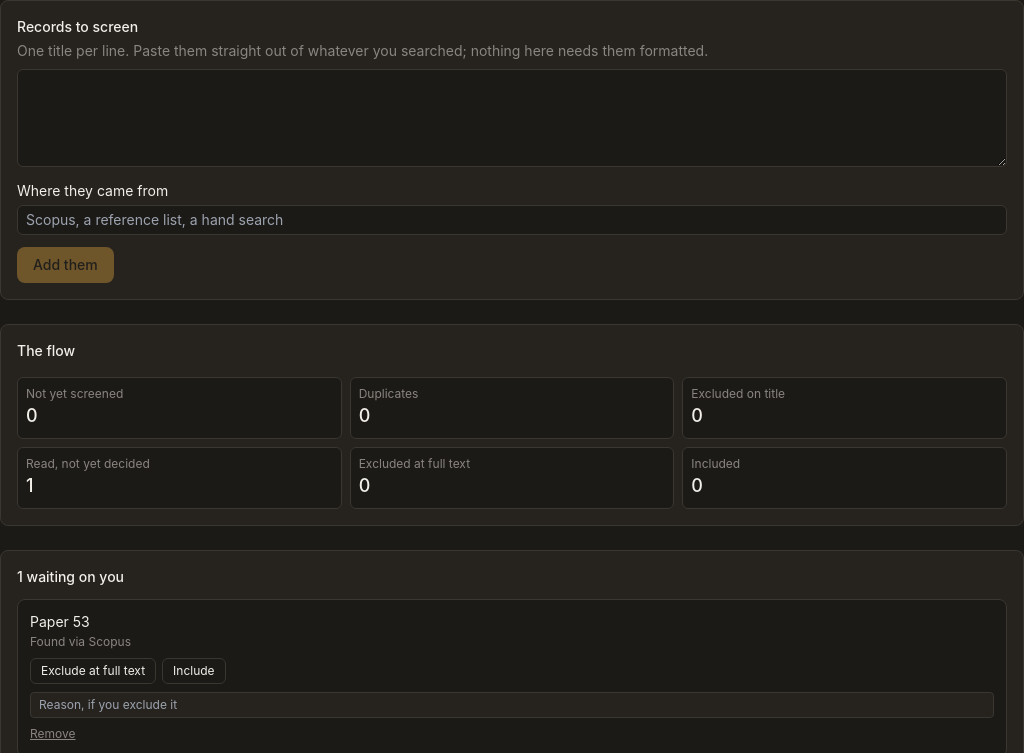
it: deciding about a record › will not exclude a full text without a reason
Click the button "Exclude at full text" at (93, 671), box [30, 658, 156, 684]
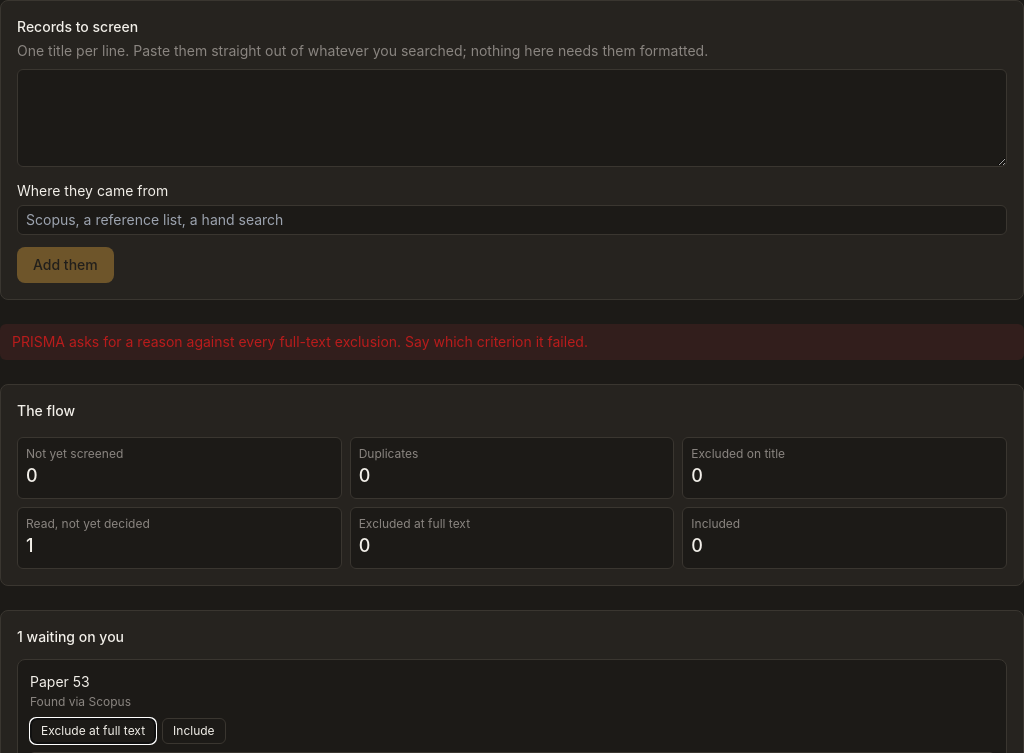
Expected: the text "PRISMA asks for a reason against every full-text exclusion" is shown, [12, 333, 588, 350]
